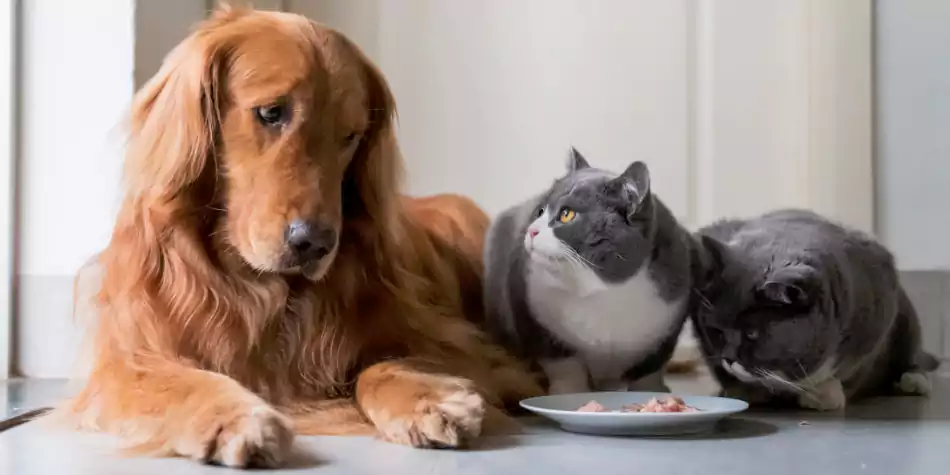anjing: (56, 8, 488, 470)
kucing: (682, 185, 931, 415), (495, 103, 686, 401)
